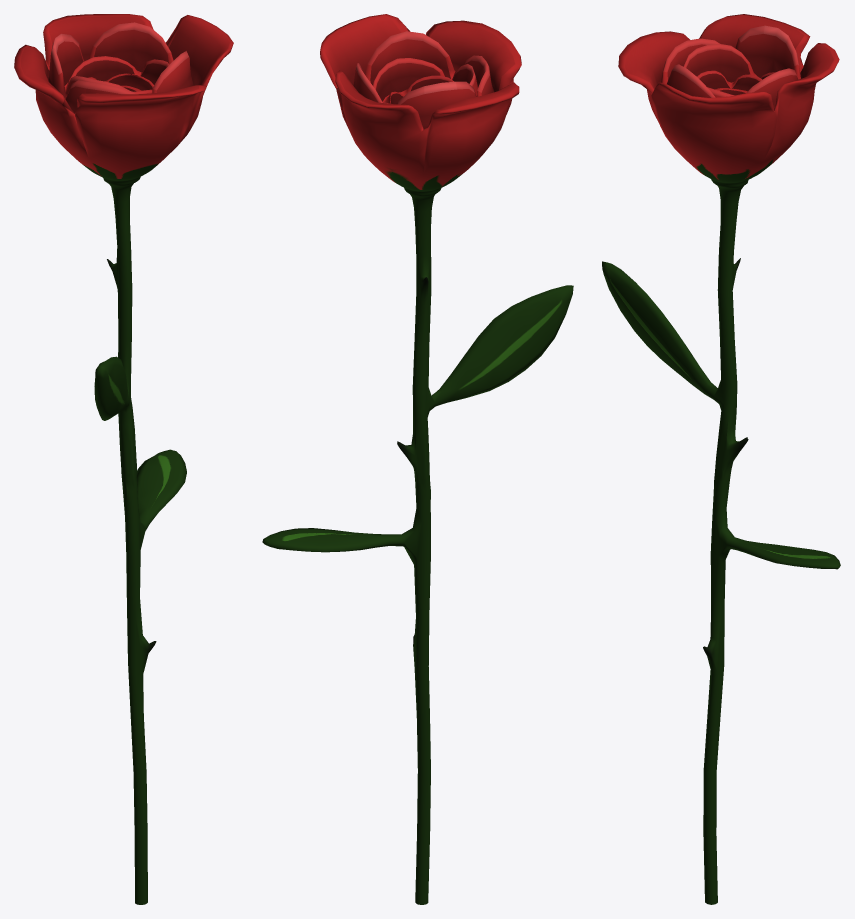
The model's file is rose.fbx.
3 views of the same model, side by side, from view 1: azimuth 30°, elevation 25°; view 2: azimuth 150°, elevation 25°; view 3: azimuth 270°, elevation 25° (orthographic).
Visible parts, largest first — view 1: rose:rose; view 2: rose:rose; view 3: rose:rose.
Part boxes in pixels (x1,y1,x2,y2): rose:rose: [14, 14, 233, 904]; rose:rose: [262, 14, 573, 904]; rose:rose: [602, 14, 840, 904].
Bounding box in the file's own units: 0.458 × 1.84 × 0.468.
Materials: 1 (1 with a texture image).
